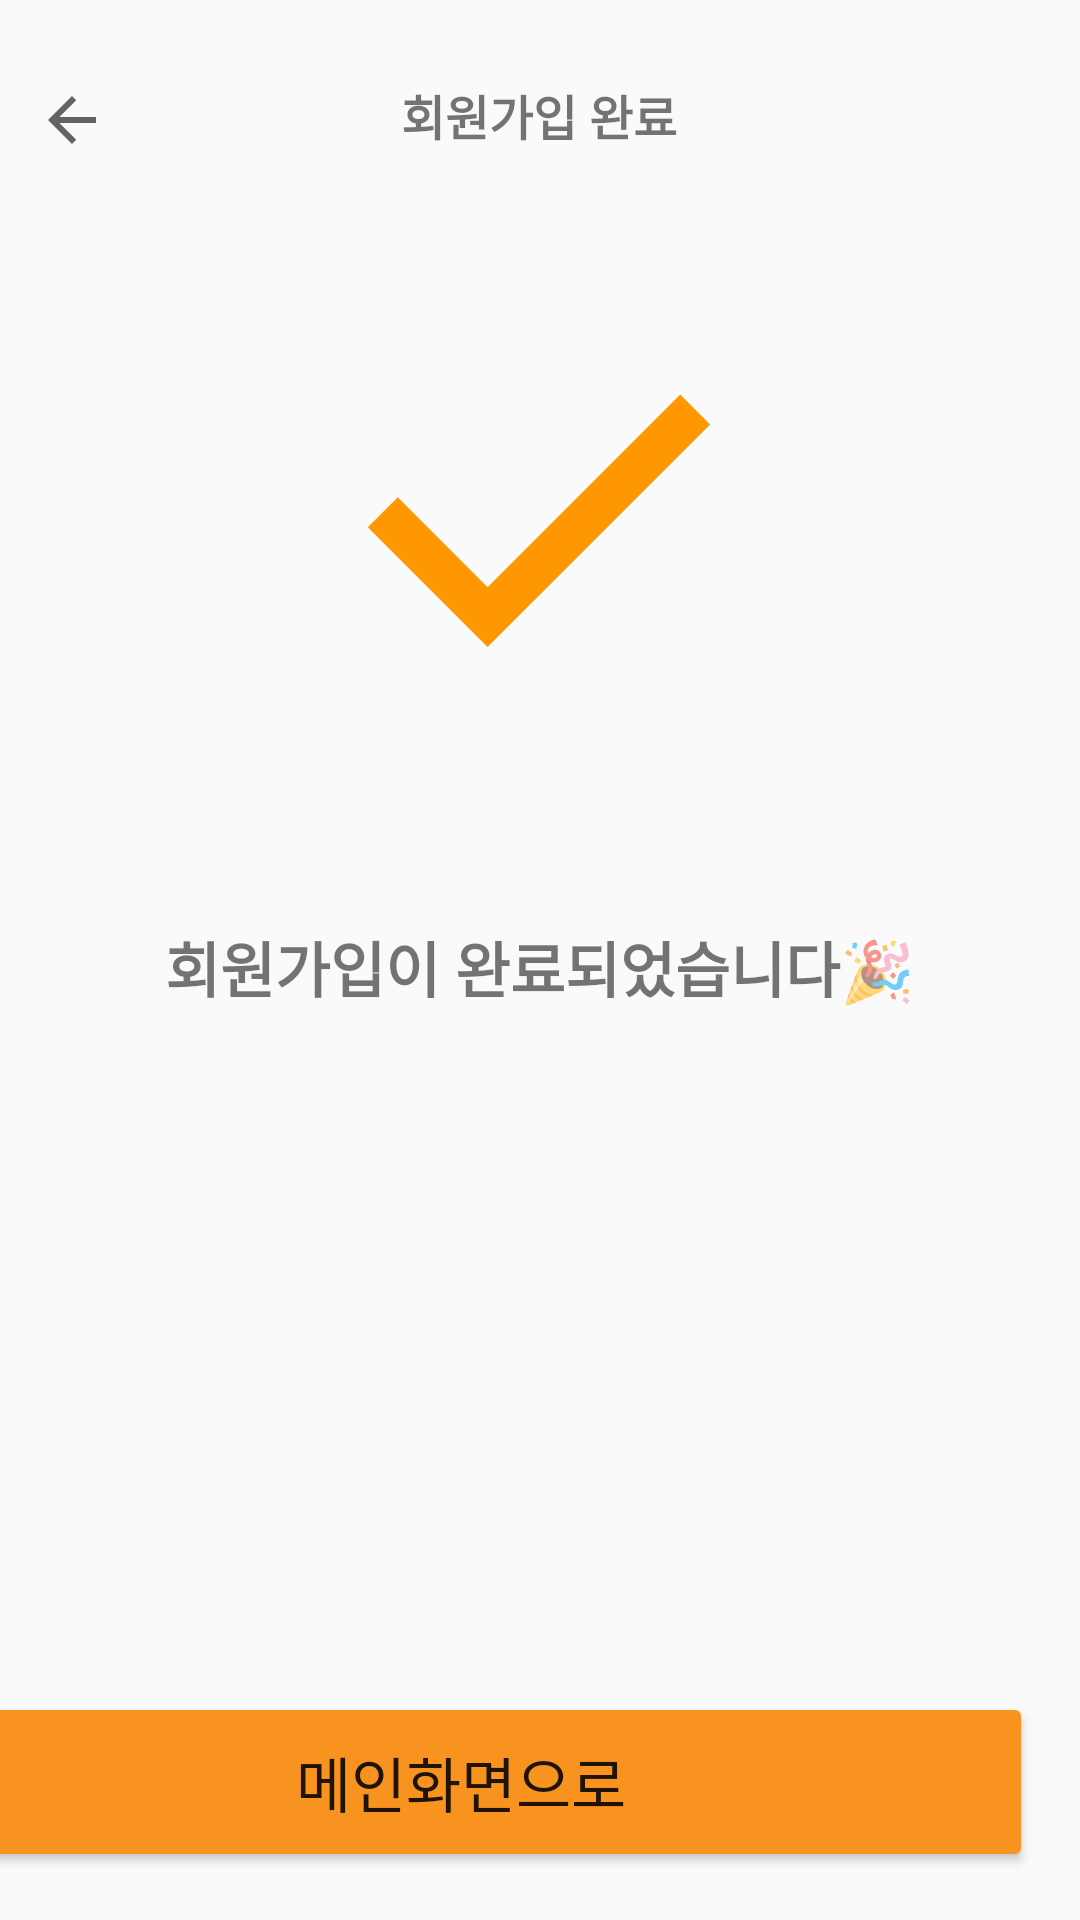

Icon bounding boxes for this 1080px x 1920px phone screenshot, format (x1, y1, x2, y2):
check: (368, 394, 710, 647)
